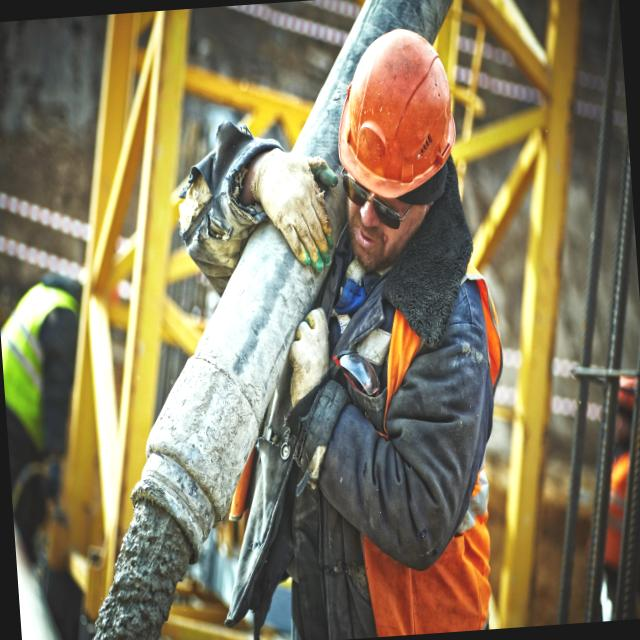helmet: (336, 34, 463, 202)
